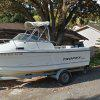Boat: (0, 19, 92, 85)
